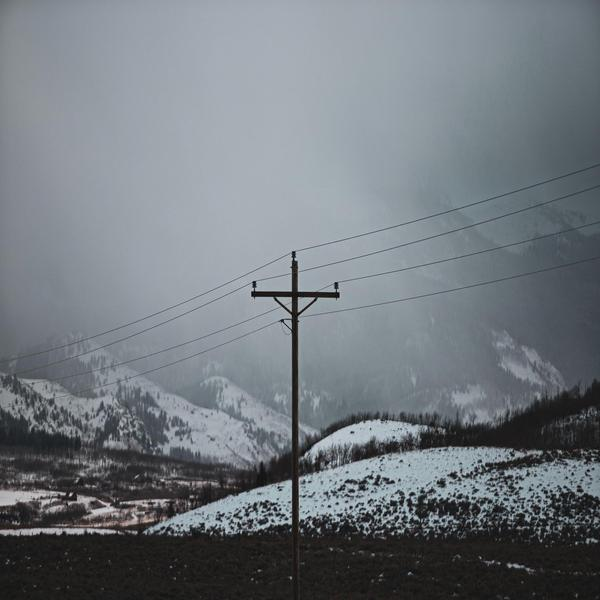utility_pole: (244, 244, 345, 357)
